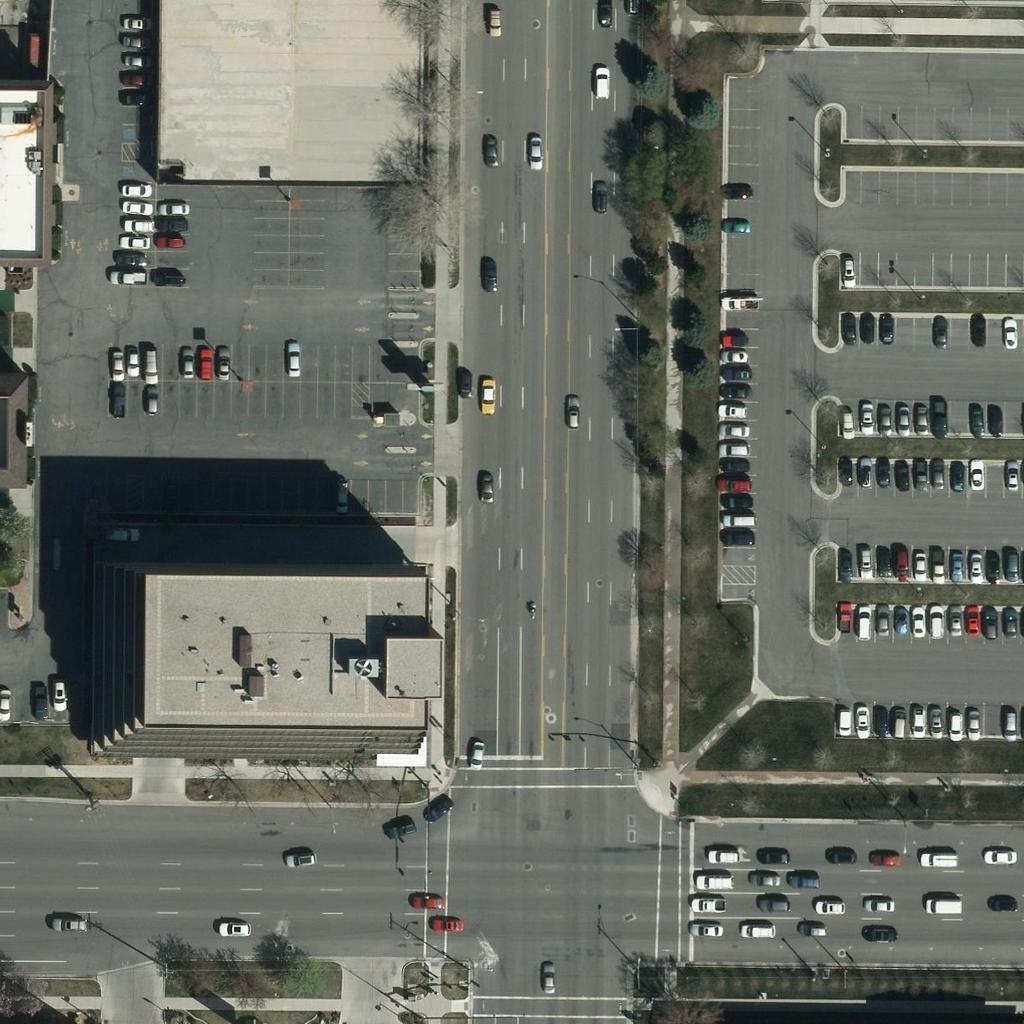car: (476, 3, 510, 37), (120, 5, 154, 39), (120, 25, 154, 59), (120, 44, 154, 78), (119, 60, 153, 94), (584, 63, 618, 97), (119, 80, 153, 114), (473, 134, 507, 168), (517, 136, 551, 170), (117, 173, 151, 207), (721, 173, 755, 207), (584, 180, 618, 214), (117, 189, 151, 223), (157, 191, 191, 225), (122, 208, 156, 242), (154, 208, 188, 242), (719, 208, 753, 242), (154, 224, 188, 258), (119, 225, 153, 259), (113, 242, 147, 276), (832, 252, 866, 286), (472, 259, 506, 293), (108, 261, 142, 295), (108, 262, 142, 296), (150, 262, 184, 296), (830, 311, 864, 345), (851, 311, 885, 345), (871, 311, 905, 345), (963, 313, 997, 347), (924, 314, 958, 348), (717, 323, 751, 357), (719, 337, 753, 371), (115, 343, 149, 377), (276, 343, 310, 377), (134, 345, 168, 379), (169, 345, 203, 379), (186, 345, 220, 379), (206, 345, 240, 379), (99, 347, 133, 381), (719, 354, 753, 388), (448, 367, 482, 401), (722, 375, 756, 409), (471, 377, 505, 411), (101, 382, 135, 416), (135, 384, 169, 418), (716, 393, 750, 427), (555, 397, 589, 431), (849, 400, 883, 434), (903, 401, 937, 435), (959, 401, 993, 435), (886, 402, 920, 436), (829, 403, 863, 437), (866, 403, 900, 437), (921, 403, 955, 437), (979, 404, 1013, 438), (717, 412, 751, 446), (717, 431, 751, 465), (719, 448, 753, 482), (827, 452, 861, 486), (848, 452, 882, 486), (864, 453, 898, 487), (920, 456, 954, 490), (884, 458, 918, 492), (905, 458, 939, 492), (906, 458, 940, 492), (960, 458, 994, 492), (941, 460, 975, 494), (469, 468, 503, 502), (719, 469, 753, 503), (325, 480, 359, 514), (721, 486, 755, 520), (720, 504, 754, 538), (105, 518, 139, 552), (719, 520, 753, 554), (846, 543, 880, 577), (828, 545, 862, 579), (867, 545, 901, 579), (939, 546, 973, 580), (884, 547, 918, 581), (903, 547, 937, 581), (957, 549, 991, 583), (922, 550, 956, 584), (978, 551, 1012, 585), (825, 597, 859, 631), (847, 603, 881, 637), (864, 604, 898, 638), (918, 604, 952, 638), (885, 605, 919, 639), (901, 605, 935, 639), (938, 605, 972, 639), (955, 605, 989, 639), (973, 605, 1007, 639), (43, 675, 77, 709), (22, 684, 56, 718), (827, 703, 861, 737), (845, 703, 879, 737), (865, 704, 899, 738), (901, 704, 935, 738), (919, 704, 953, 738), (881, 706, 915, 740), (937, 707, 971, 741), (957, 707, 991, 741), (459, 735, 493, 769), (420, 790, 454, 824), (385, 812, 419, 846), (759, 837, 793, 871), (709, 838, 743, 872), (822, 839, 856, 873), (983, 839, 1017, 873), (869, 841, 903, 875), (285, 842, 319, 876), (921, 842, 955, 876), (748, 862, 782, 896), (695, 864, 729, 898), (790, 864, 824, 898), (413, 885, 447, 919), (691, 885, 725, 919), (985, 886, 1019, 920), (759, 887, 793, 921), (864, 887, 898, 921), (922, 888, 956, 922), (813, 890, 847, 924), (434, 906, 468, 940), (50, 907, 84, 941), (219, 910, 253, 944), (692, 913, 726, 947), (741, 913, 775, 947), (798, 913, 832, 947), (865, 917, 899, 951), (530, 963, 564, 997), (992, 605, 1024, 639), (992, 707, 1024, 741), (994, 318, 1024, 352), (994, 459, 1024, 493), (994, 548, 1024, 582), (586, 0, 620, 28), (0, 686, 19, 720)
